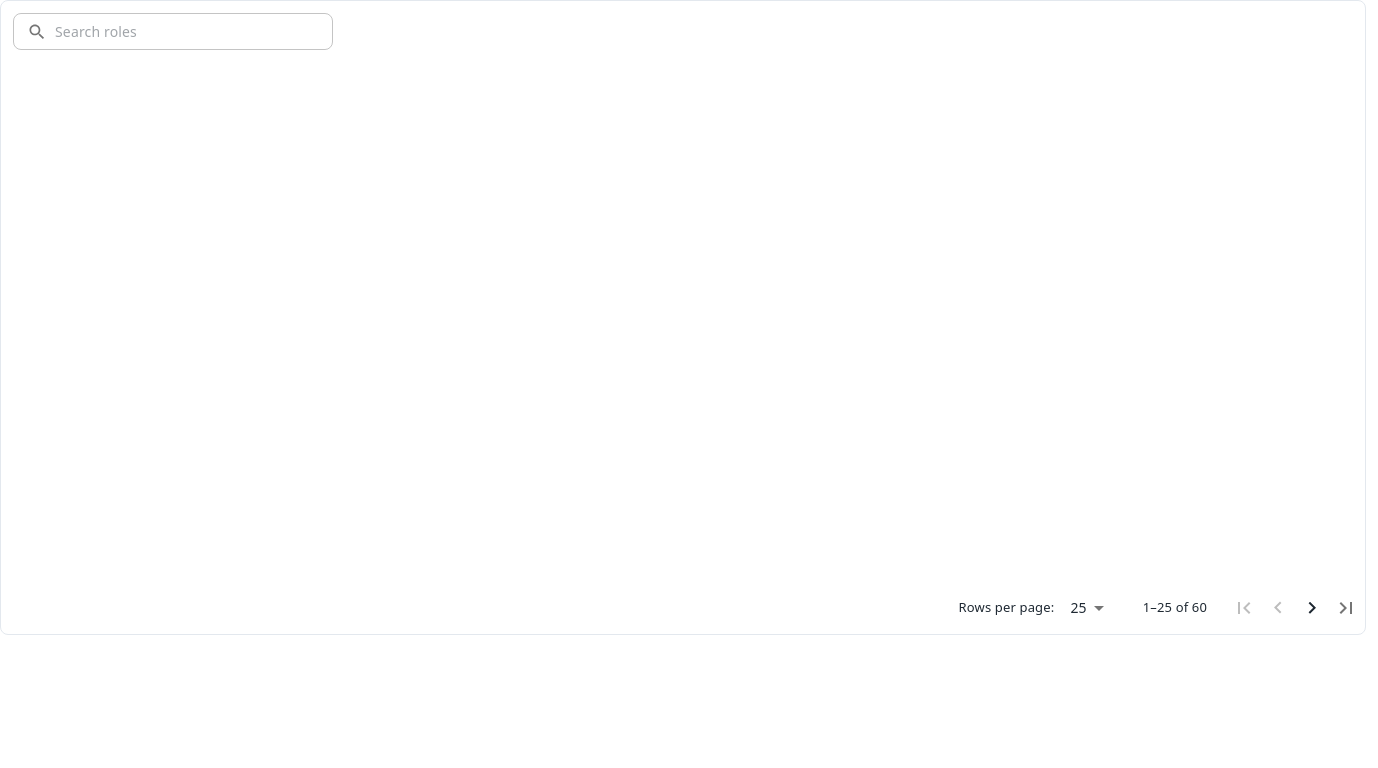
Scenario: AppGrid › requests the next page and a new page size from the server
Check: the text "1–25 of 60" is shown, box [1143, 598, 1207, 618]
Click the button named "next page" at coordinates (1312, 608), box [1295, 591, 1329, 625]
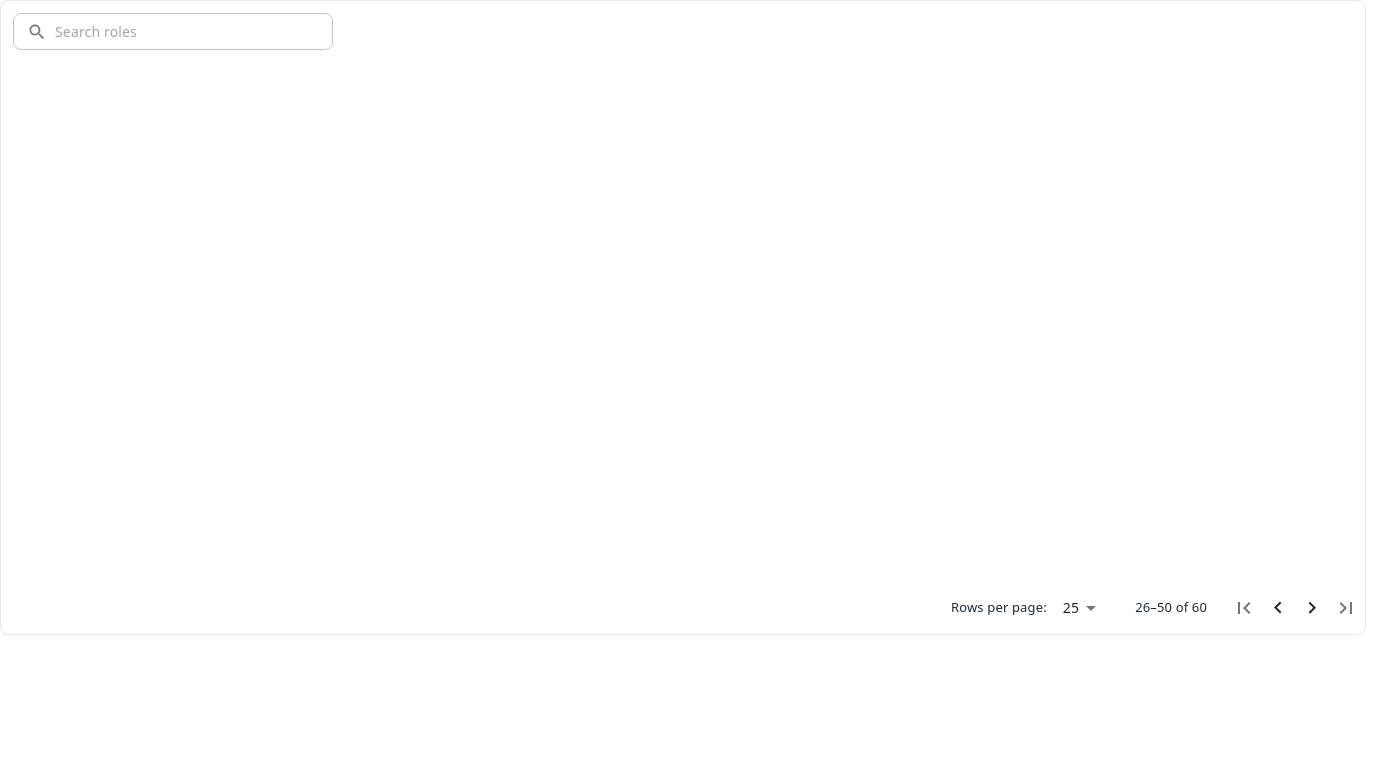
Check: the text "26–50 of 60" is shown, box [1135, 598, 1207, 618]
Press the mouse on the dropdown at coordinates (1071, 607), box [1063, 598, 1079, 617]
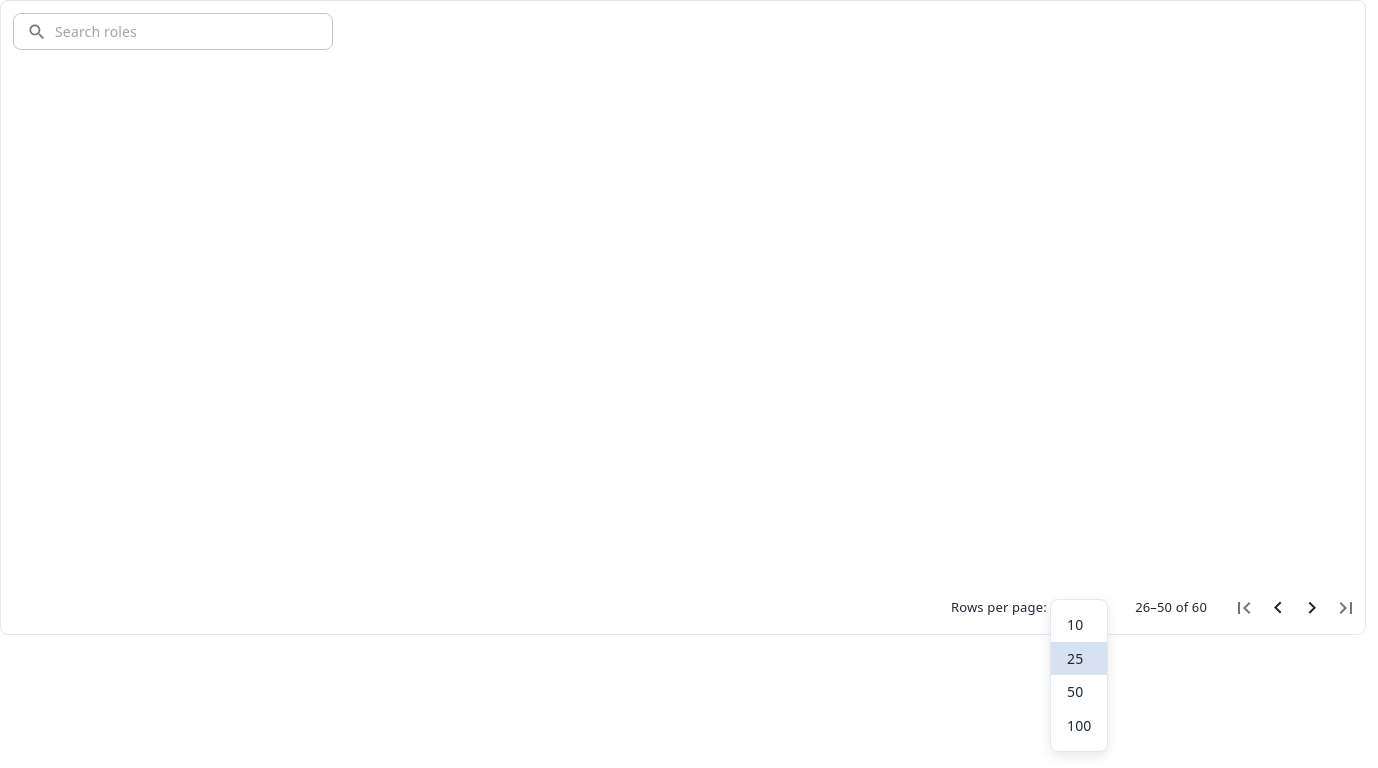
Click the option "50" at coordinates (1075, 692), box [1067, 682, 1083, 701]
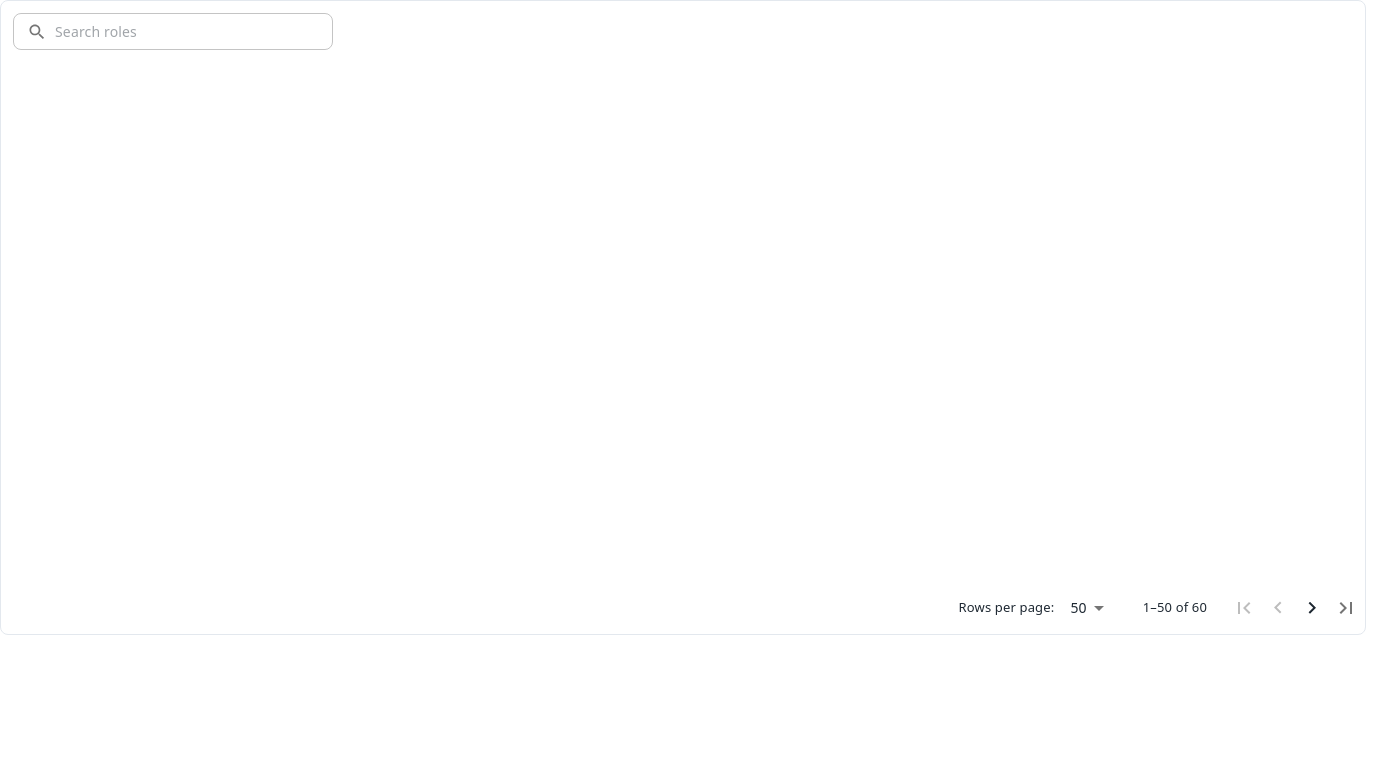
Check: the text "1–50 of 60" is shown, box [1143, 598, 1207, 618]
